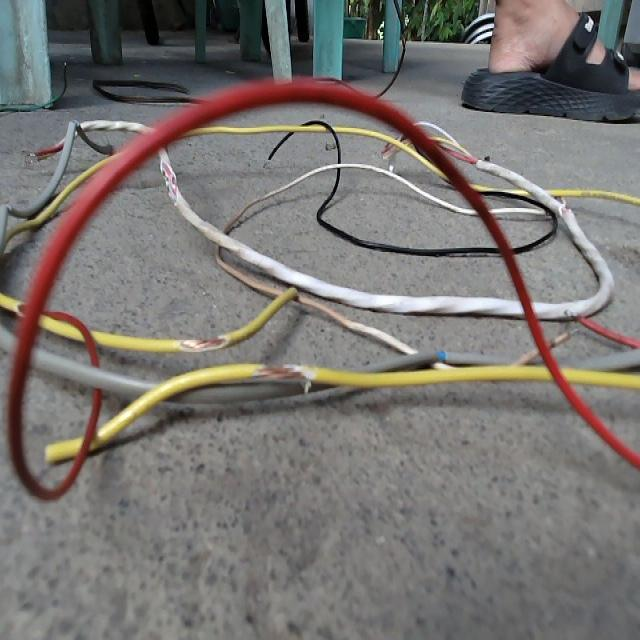-: (249, 360, 308, 381), (158, 154, 180, 202), (177, 336, 228, 349)
